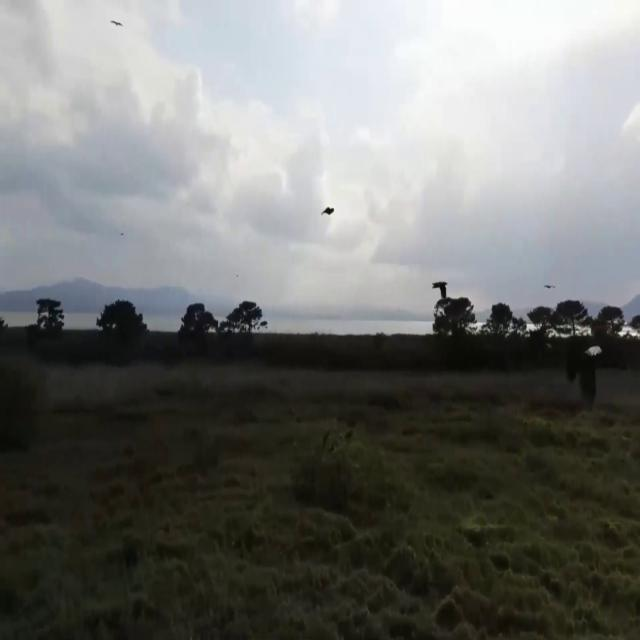bird: (432, 267, 449, 308), (320, 197, 335, 230), (110, 11, 124, 38)
